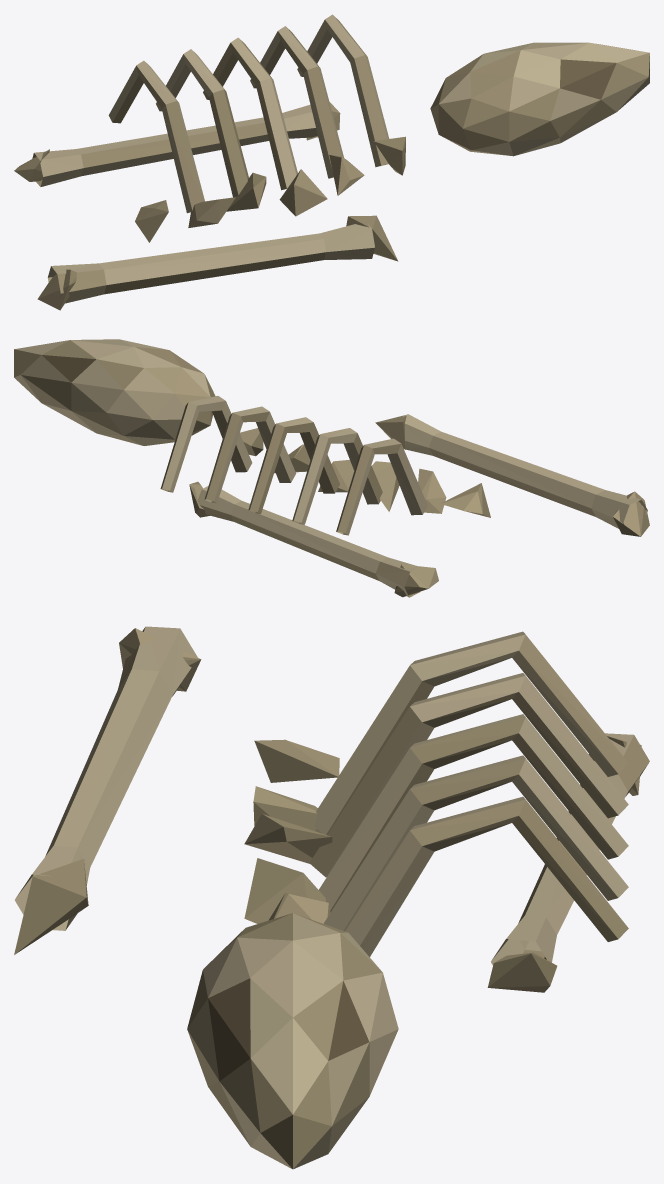
Rendered from bones.glb.
3 views of the same model, one above another, from view 1: azimuth 30°, elevation 25°; view 2: azimuth 150°, elevation 25°; view 3: azimuth 270°, elevation 25° (orthographic). The views are drawn at different scales.
Visible parts, largest first — view 1: bones; view 2: bones; view 3: bones.
Boxes of the visible parts, box(x1,y1,x2,y2) form: bones: box(14, 14, 649, 310); bones: box(14, 339, 649, 597); bones: box(14, 626, 649, 1169).
Size of the model in its own units: 0.8185 by 0.1518 by 0.3907.
